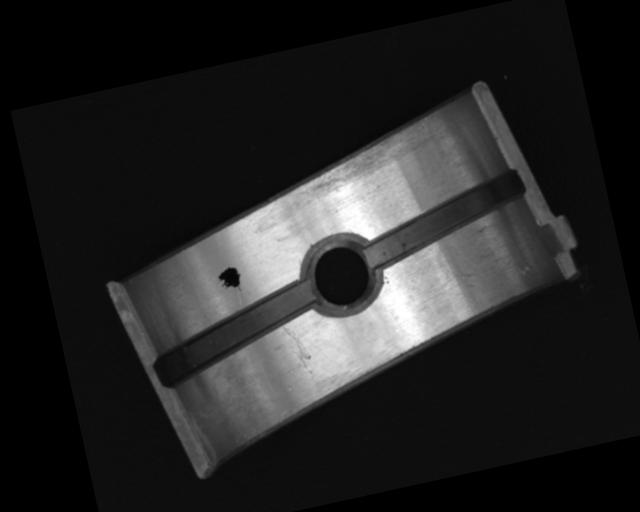blot: (215, 264, 244, 296)
bruise: (455, 270, 476, 282), (517, 263, 533, 276)
gap: (144, 277, 326, 387), (353, 167, 534, 270)
hole: (298, 227, 387, 319)
nick: (282, 320, 316, 377)
scratch: (281, 115, 445, 204)
